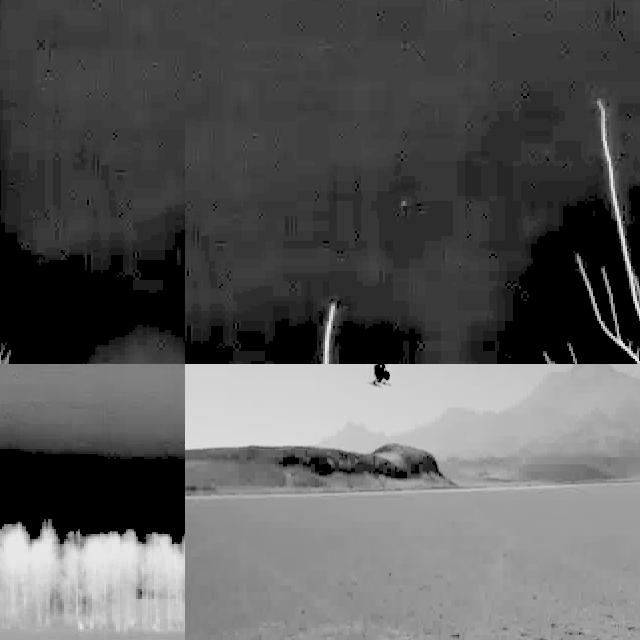0: (391, 190, 411, 220)
drone: (351, 364, 410, 387)
